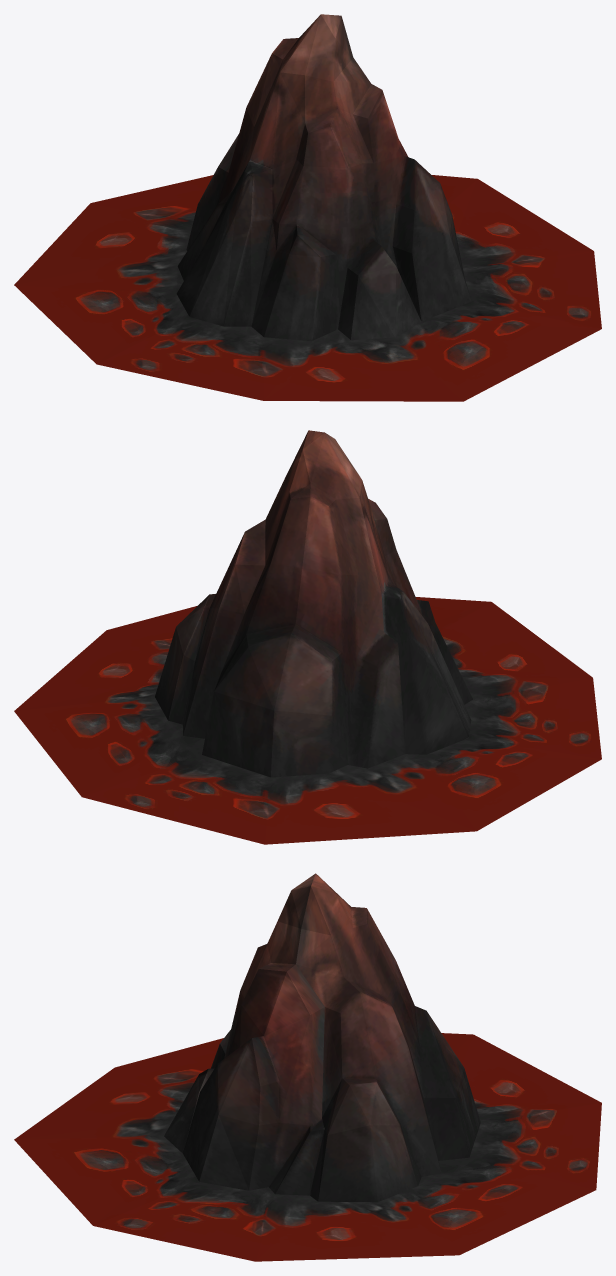
File: rock_footer01.fbx
The picture shows the model from 3 angles, top to bottom: view 1: azimuth 30°, elevation 25°; view 2: azimuth 150°, elevation 25°; view 3: azimuth 270°, elevation 25°; orthographic projection. The views are drawn at different scales.
Visible parts, largest first — view 1: obj1.048; view 2: obj1.048; view 3: obj1.048.
Part boxes in pixels (left/top/right/bottom): obj1.048: left=14, top=14, right=601, bottom=401; obj1.048: left=14, top=430, right=601, bottom=844; obj1.048: left=14, top=873, right=601, bottom=1261.
Bounding box in the file's own units: 10.28 × 5.49 × 10.8.
